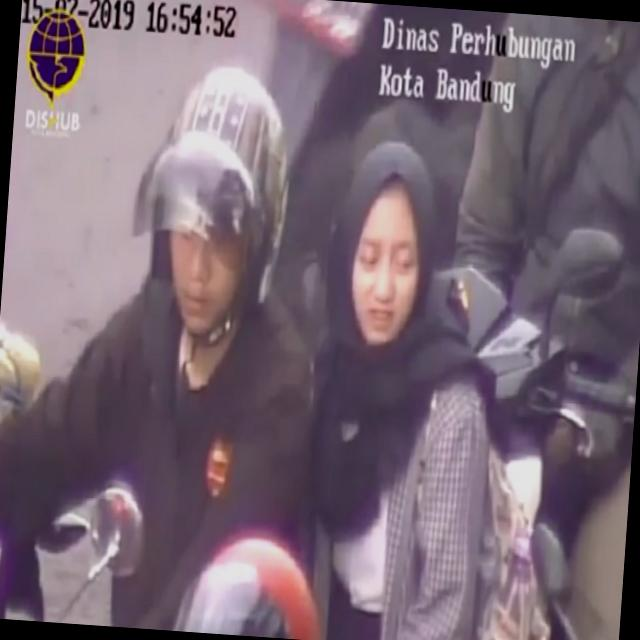no_helmet: (108, 30, 317, 388), (319, 114, 464, 393)
